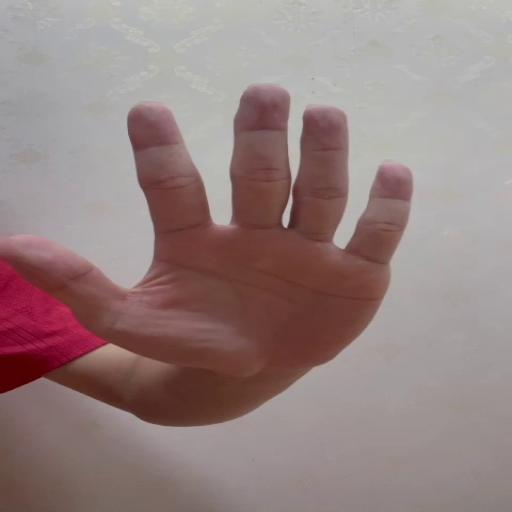open_palm: (2, 81, 418, 374)
